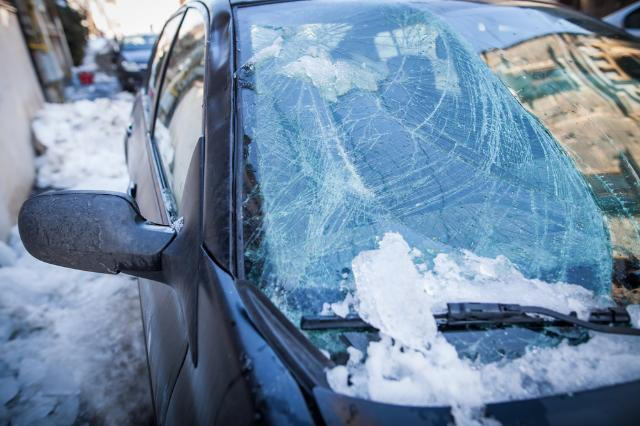glass shatter: (237, 0, 640, 363)
